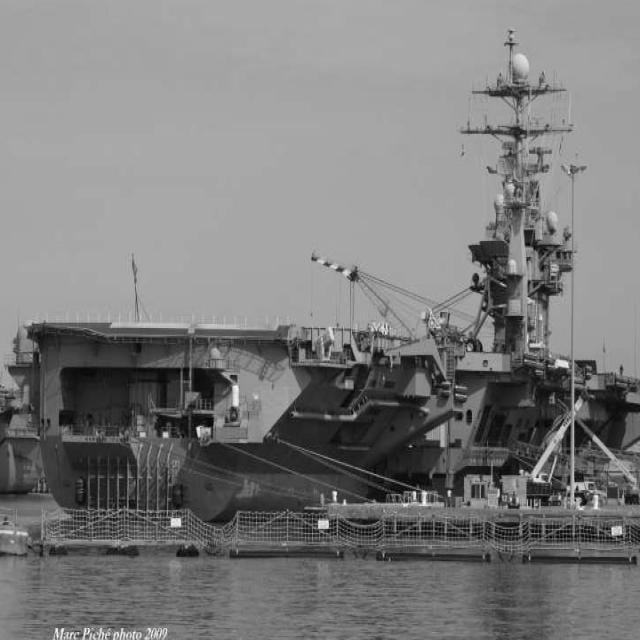Portanaves: (27, 27, 640, 523)
